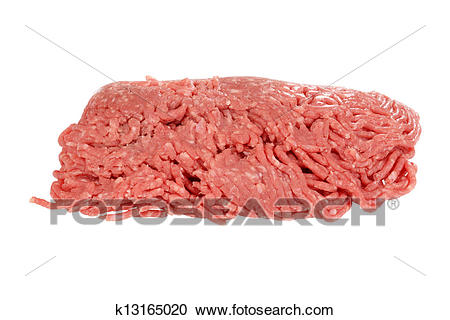ground_beef: (47, 65, 411, 203)
